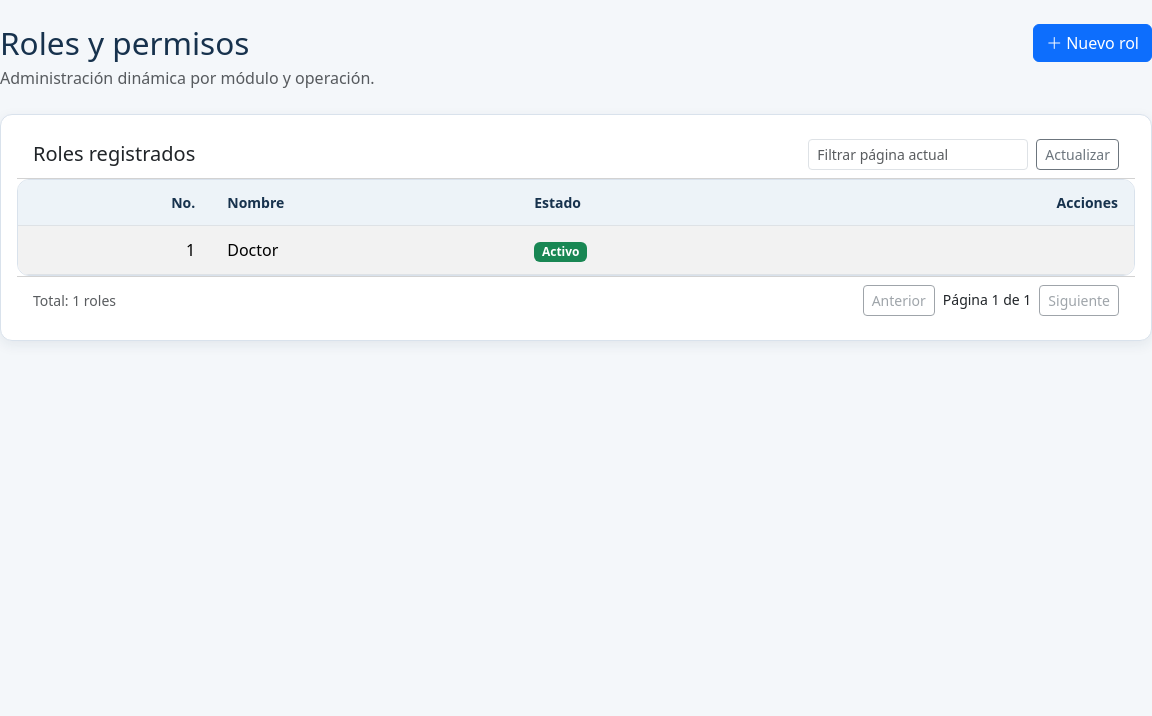
it: RolesComponent › explica la limitación cuando puede crear roles pero no asignar permisos
This screenshot has width=1152, height=716.
Click the button "Nuevo rol": [1093, 43] box [1033,24,1151,62]
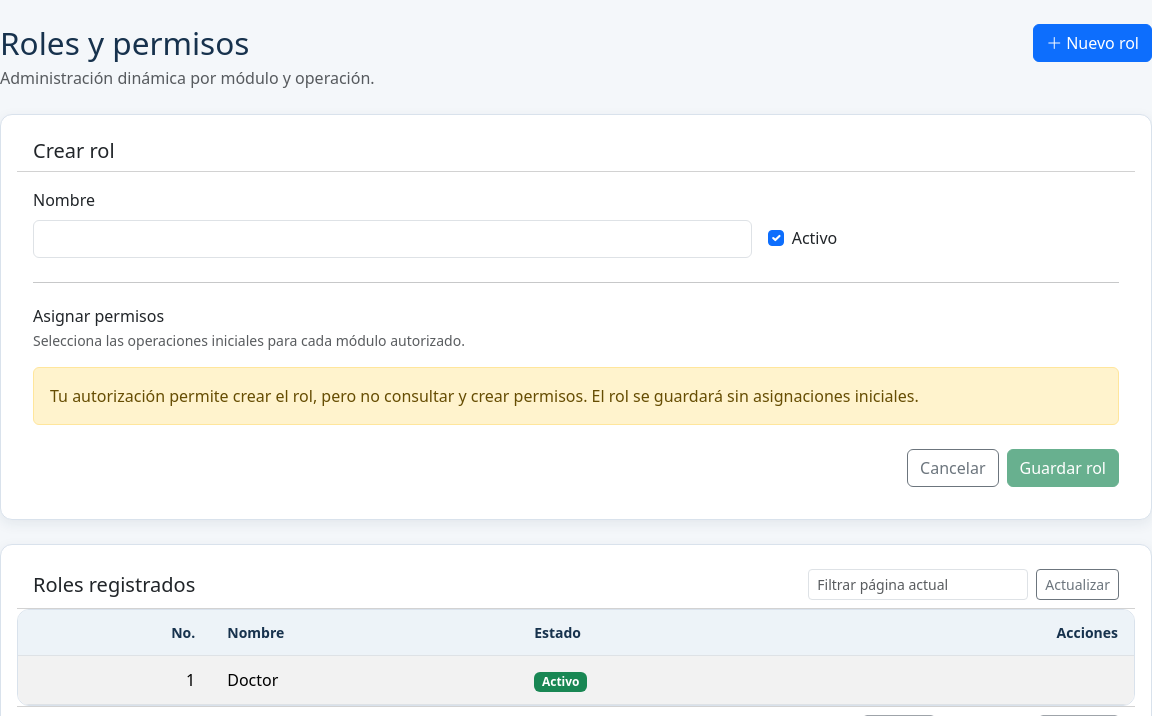
Expected: the text "El rol se guardará sin asignaciones iniciales" is shown, [50,385,919,407]
